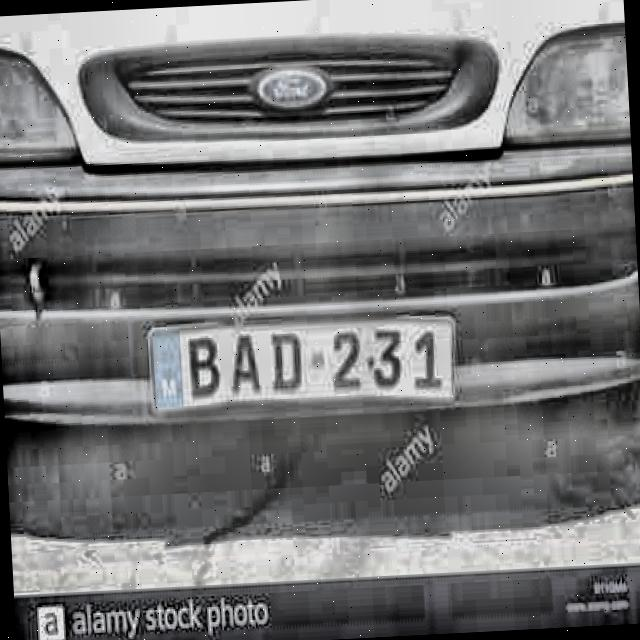license_plate: (146, 306, 456, 428)
